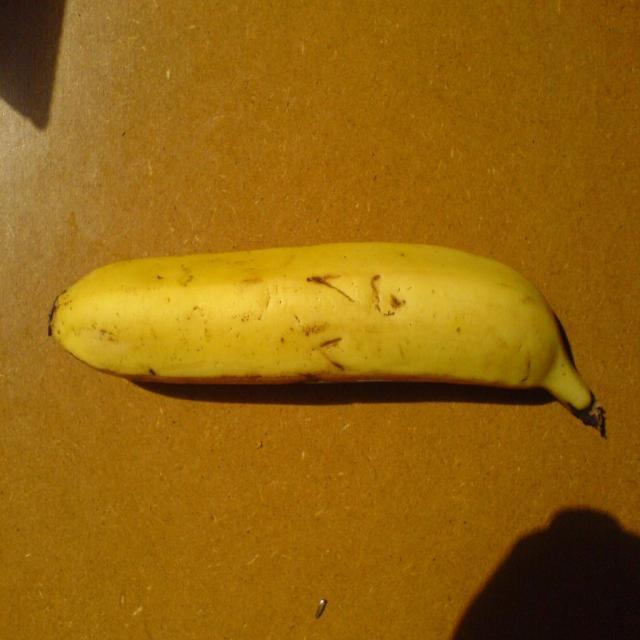Banana: (44, 241, 604, 431)
